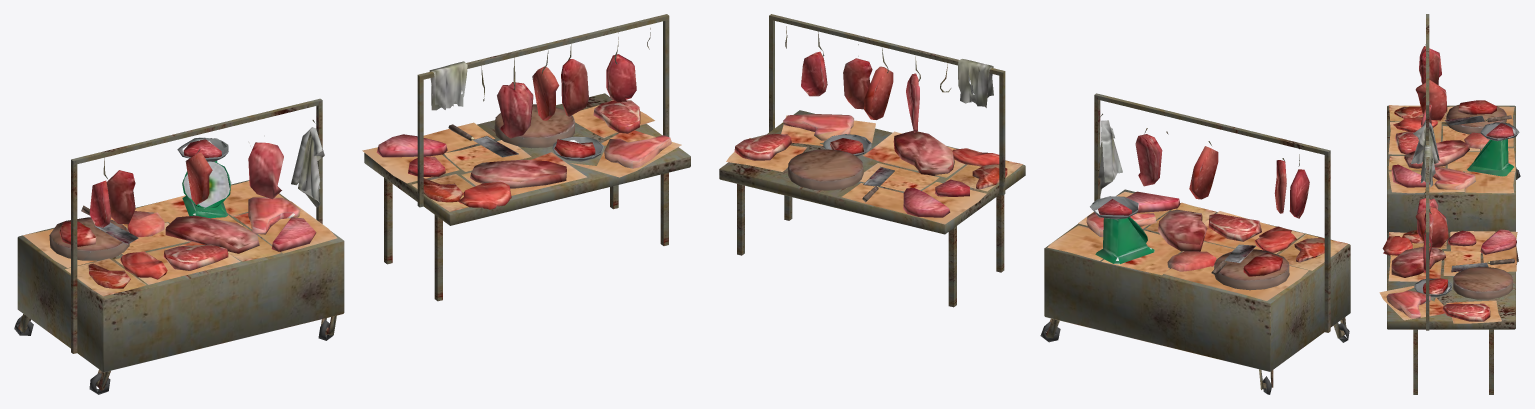
Rendered from sap-thit.glb.
The picture shows the model from 3 angles, left to right: view 1: azimuth 30°, elevation 25°; view 2: azimuth 150°, elevation 25°; view 3: azimuth 270°, elevation 25°; orthographic projection. The views are drawn at different scales.
Parts seen in each view (by area): view 1: Cube.001, Cube.003; view 2: Cube.001, Cube.003; view 3: Cube.001, Cube.003.
Part boxes in pixels (box(x1,y1,x2,y2)): Cube.001: box(14, 98, 344, 394); Cube.003: box(362, 14, 690, 301); Cube.001: box(1040, 93, 1350, 394); Cube.003: box(719, 14, 1025, 307); Cube.001: box(1387, 14, 1520, 264); Cube.003: box(1379, 141, 1517, 394).
Bounding box in the file's own units: 1 × 0.3538 × 0.2708.
1 material, 1 textured.
